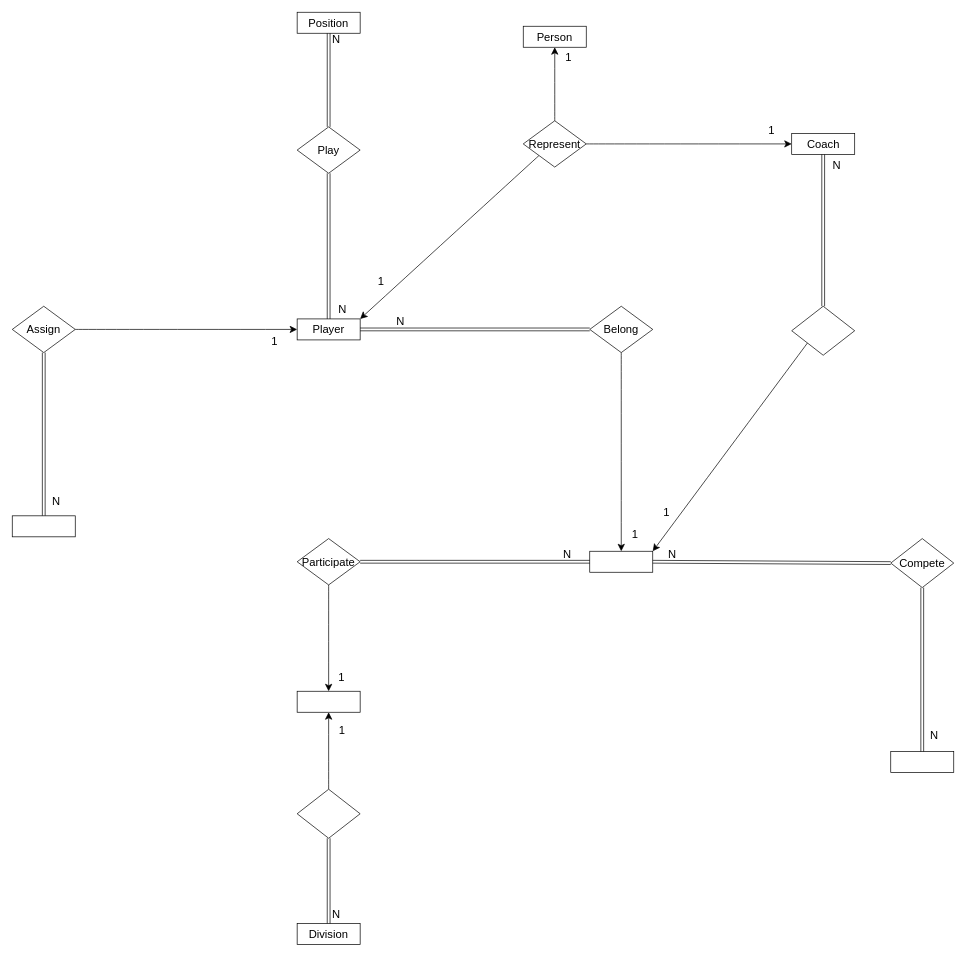
The diagram is 966 pixels wide and 957 high, and some of its shapes have lost their labels. Each missing label, with the centre of its shape:
"Conference" belongs at point (328, 701).
"Contain" belongs at point (328, 813).
"Manage" belongs at point (823, 330).
"Season" belongs at point (922, 762).
"Stat" belongs at point (43, 526).
"Team" belongs at point (621, 561).
